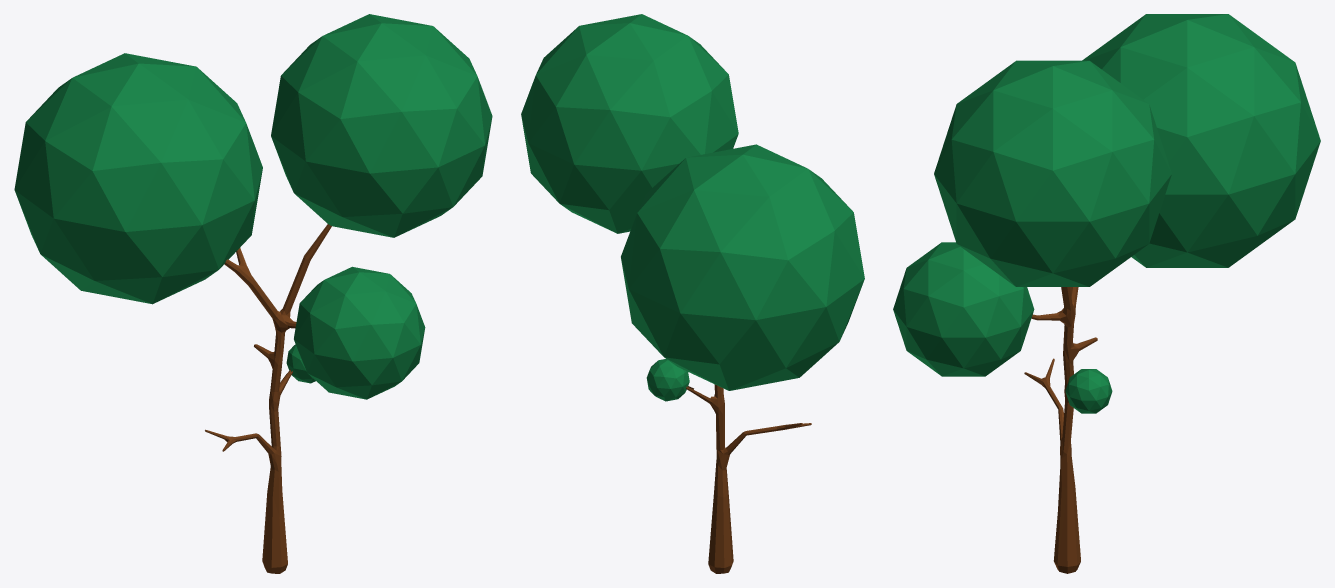
File: beautifulTreeFBX1.fbx
The picture shows the model from 3 angles, left to right: view 1: azimuth 30°, elevation 25°; view 2: azimuth 150°, elevation 25°; view 3: azimuth 270°, elevation 25°; orthographic projection. The views are drawn at different scales.
Parts seen in each view (by area): view 1: Cube; view 2: Cube; view 3: Cube.
Boxes of the visible parts, left/top/right/bottom form: Cube: left=14, top=14, right=492, bottom=573; Cube: left=521, top=14, right=864, bottom=573; Cube: left=893, top=14, right=1320, bottom=573.
Size of the model in its own units: 309 by 414 by 290.
